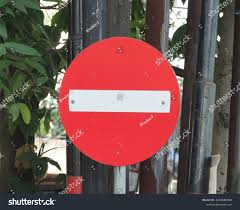No entry: (58, 38, 181, 165)
